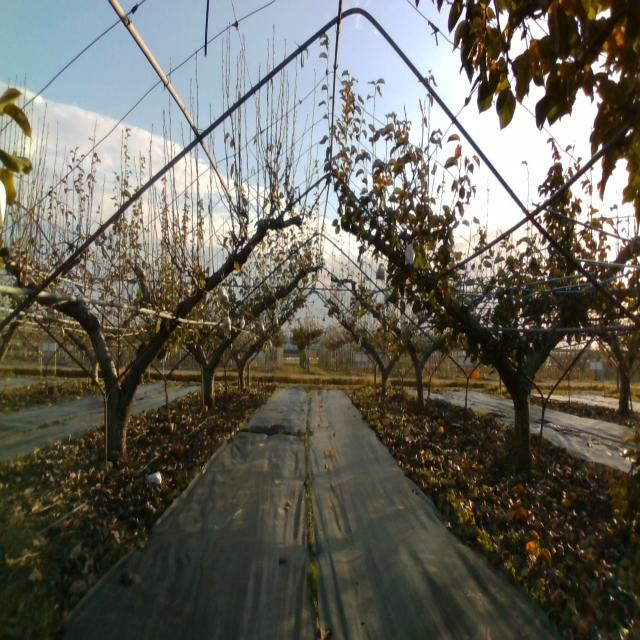pearbags: (404, 244, 415, 266)
